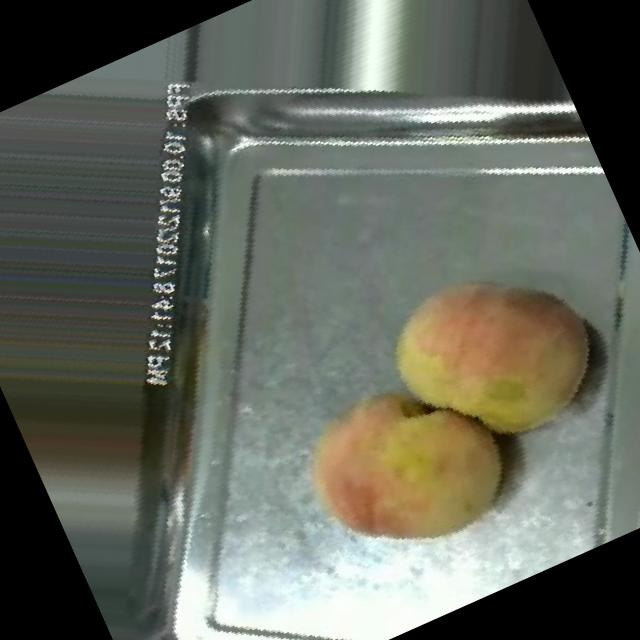Fruit: (328, 199, 640, 518), (252, 321, 558, 617)
